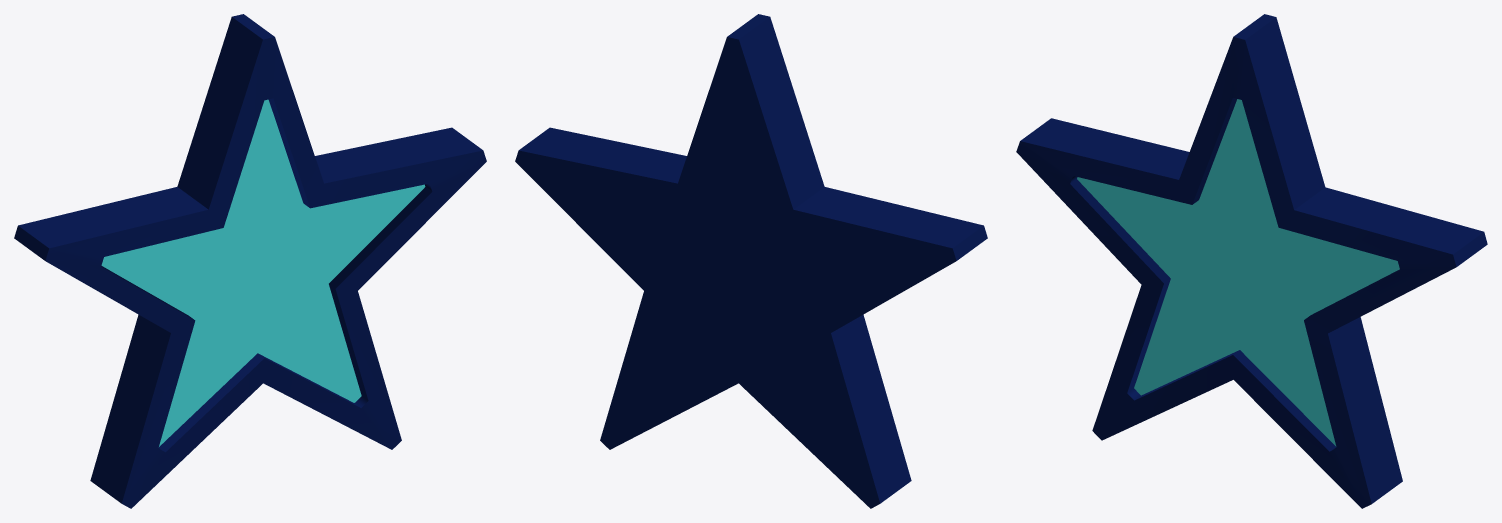
File: Stars.fbx
3 renders of one model, left to right at view 1: azimuth 30°, elevation 25°; view 2: azimuth 150°, elevation 25°; view 3: azimuth 330°, elevation 25°, orthographic.
Visible parts, largest first — view 1: Circle; view 2: Circle; view 3: Circle.
Boxes of the visible parts, x1=… form: Circle: x1=14, y1=14, x2=486, y2=508; Circle: x1=515, y1=14, x2=987, y2=508; Circle: x1=1016, y1=14, x2=1487, y2=508.
Size of the model in its own units: 178 by 171 by 22.52.
